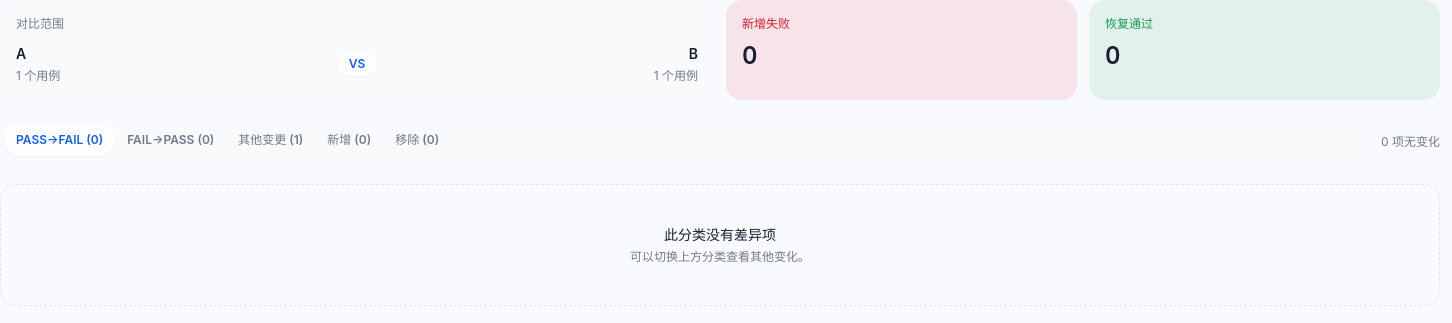
Test: compare result views › shows other result transitions and links them to the second batch in workspace
Click the tab "其他变更 (1)": (271,140) [226,124,315,156]
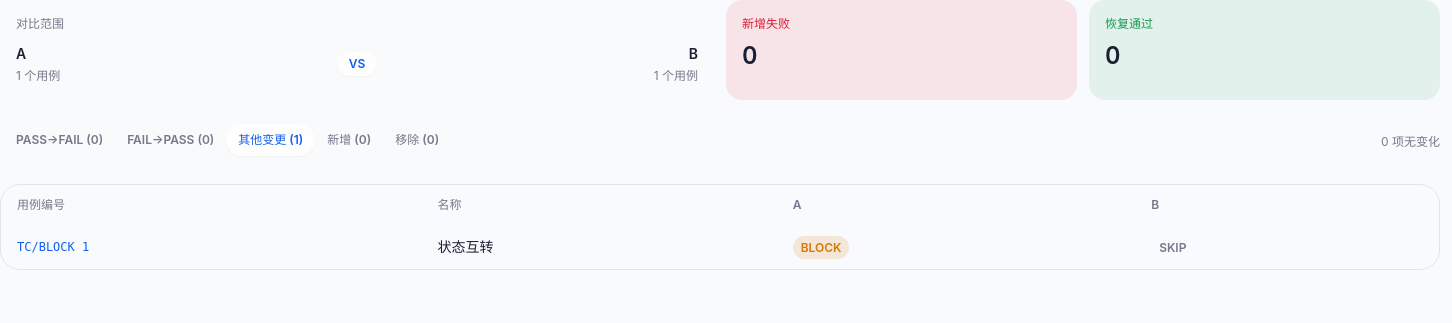
Expected: the text "BLOCK" is shown, [793,236,850,259]
Expected: the text "SKIP" is shown, [1151,236,1194,259]
